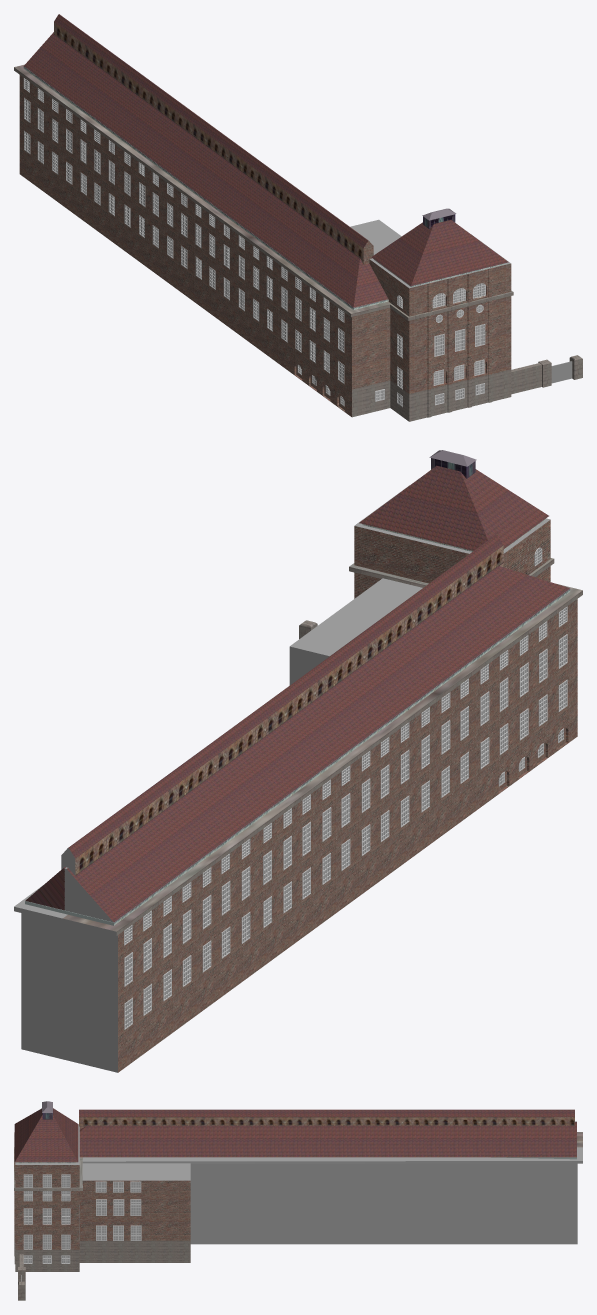
File: KTHexportTest1.fbx
3 renders of one model, top to bottom at view 1: azimuth 30°, elevation 25°; view 2: azimuth 150°, elevation 25°; view 3: azimuth 270°, elevation 25°, orthographic. The views are drawn at different scales.
Visible parts, largest first — view 1: polySurface55, pCube654, pCube656, pCube659, pCube657, pCube660, pCube653, pCube661; view 2: polySurface55, pCube654, pCube656, pCube657, pCube659, pCube660, pCube653, pCube658; view 3: polySurface55, pCube658, pCube659, pCube657, pCube660, pCube656.
Boxes of the visible parts, x1,y1,x2,y2 form: polySurface55: (19,75,511,421); pCube654: (24,32,388,307); pCube656: (371,220,508,285); pCube659: (54,22,373,264); pCube657: (14,64,513,320); pCube660: (54,14,373,248); pCube653: (23,66,388,309); pCube661: (511,363,541,394); polySurface55: (21,485,577,1072); pCube654: (64,566,569,922); pCube656: (359,465,548,550); pCube657: (14,558,582,936); pCube659: (61,545,503,875); pCube660: (61,534,503,858); pCube653: (25,589,570,925); pCube658: (25,867,65,910); polySurface55: (14,1125,577,1271); pCube658: (79,1122,576,1157); pCube659: (79,1117,574,1129); pCube657: (14,1132,582,1190); pCube660: (79,1109,574,1116); pCube656: (14,1108,78,1162).
Bounding box in the file's own units: 48.55 × 39.55 × 138.
